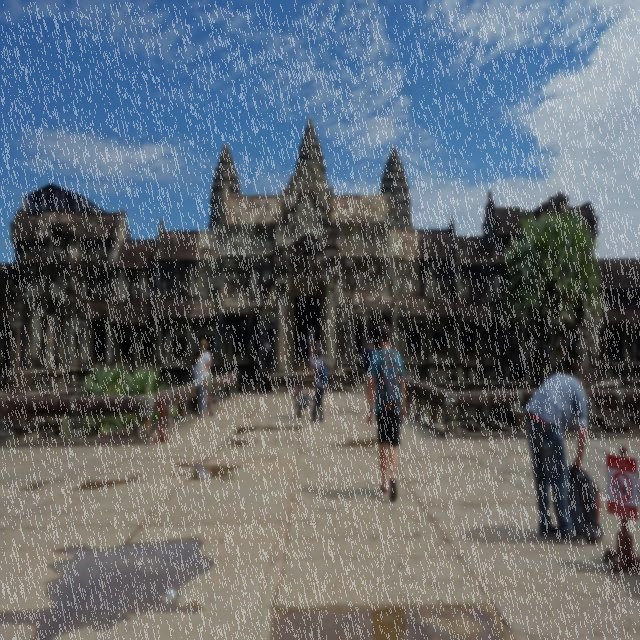pessoa: (522, 371, 594, 548), (367, 321, 408, 502), (298, 478, 381, 502), (307, 344, 330, 422), (198, 338, 216, 417), (191, 341, 208, 418), (362, 336, 378, 414), (306, 321, 316, 361), (263, 335, 274, 368), (312, 338, 326, 360), (298, 328, 306, 361), (321, 350, 328, 360)
